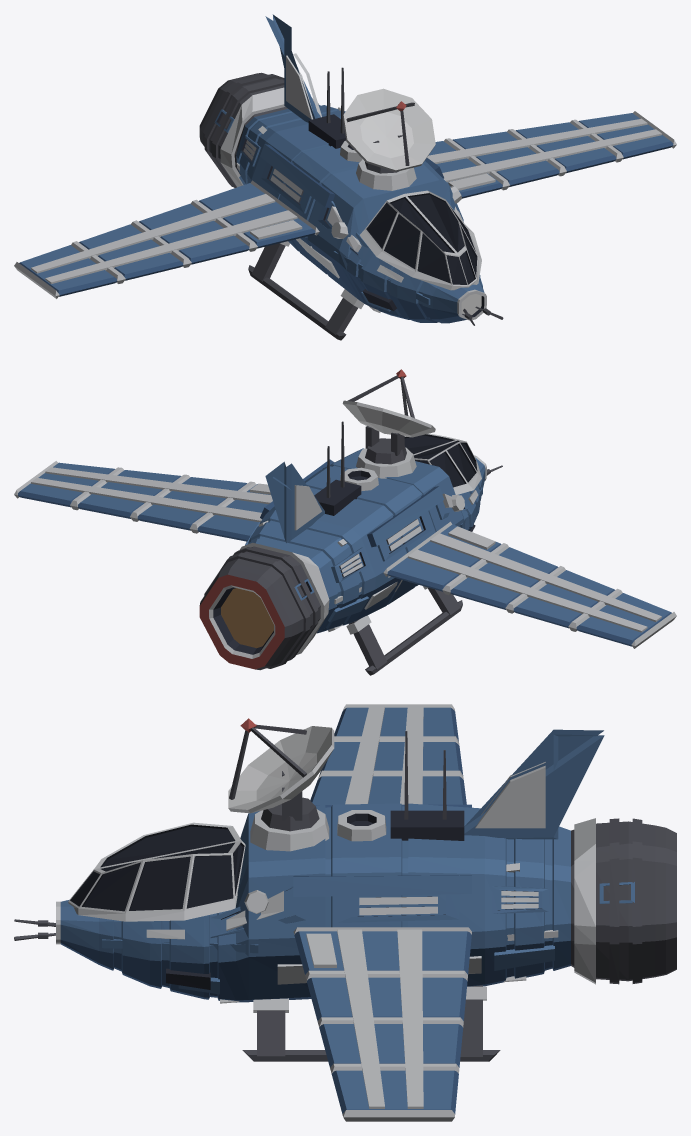
The model's file is scout-ship-289ccc.glb.
3 renders of one model, top to bottom at view 1: azimuth 30°, elevation 25°; view 2: azimuth 150°, elevation 25°; view 3: azimuth 270°, elevation 25°, orthographic. The views are drawn at different scales.
Visible parts, largest first — view 1: scout-ship, wing-l, wing-r, dish; view 2: scout-ship, wing-l, wing-r, dish, dish-yaw; view 3: scout-ship, wing-r, wing-l, dish, dish-yaw.
Part boxes in pixels (x1,y1,x2,y2): scout-ship: (199, 14, 503, 340); wing-l: (14, 180, 319, 298); wing-r: (427, 111, 676, 198); dish: (342, 88, 435, 171); scout-ship: (199, 421, 502, 675); wing-l: (383, 521, 676, 648); wing-r: (14, 461, 272, 541); dish: (342, 369, 435, 437); dish-yaw: (365, 426, 406, 464); scout-ship: (14, 729, 676, 1061); wing-r: (293, 927, 471, 1121); wing-l: (310, 704, 466, 804); dish: (228, 718, 334, 813); dish-yaw: (261, 771, 319, 831).
Bounding box in the file's own units: 15.13 × 5.28 × 10.39.
